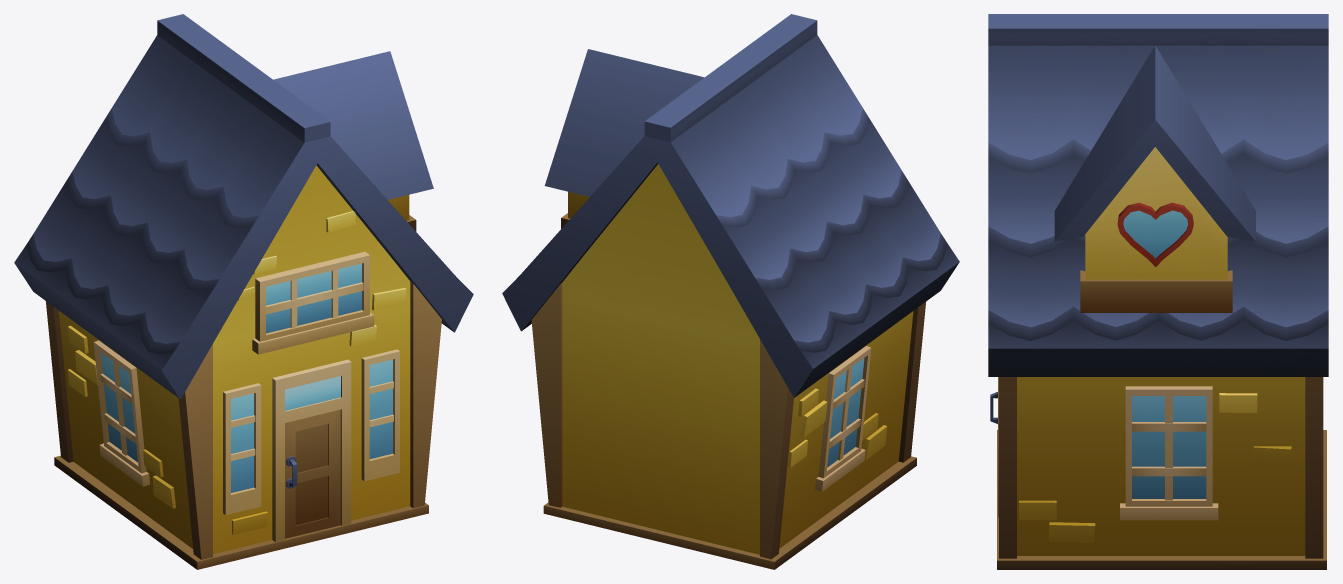
File: House_03A.fbx
3 renders of one model, left to right at view 1: azimuth 30°, elevation 25°; view 2: azimuth 150°, elevation 25°; view 3: azimuth 270°, elevation 25°, orthographic. The views are drawn at different scales.
Parts seen in each view (by area): view 1: House_03A; view 2: House_03A; view 3: House_03A.
Part boxes in pixels (bbox=[...]): House_03A: bbox=[14, 14, 473, 569]; House_03A: bbox=[502, 14, 959, 569]; House_03A: bbox=[988, 14, 1328, 569].
Bounding box in the file's own units: 585 × 750 × 478.
Materials: 4 (4 with a texture image).
